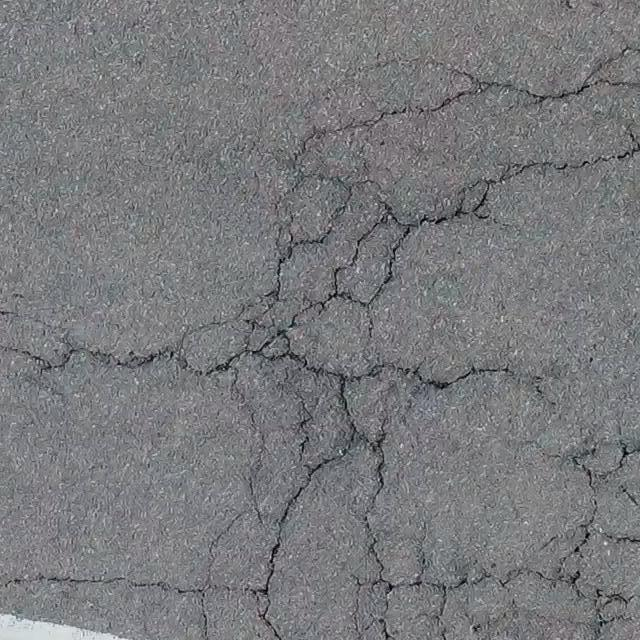GRIETA: (0, 344, 164, 370), (0, 575, 190, 593)
PIEL DE COCODRILO: (163, 39, 639, 639)
